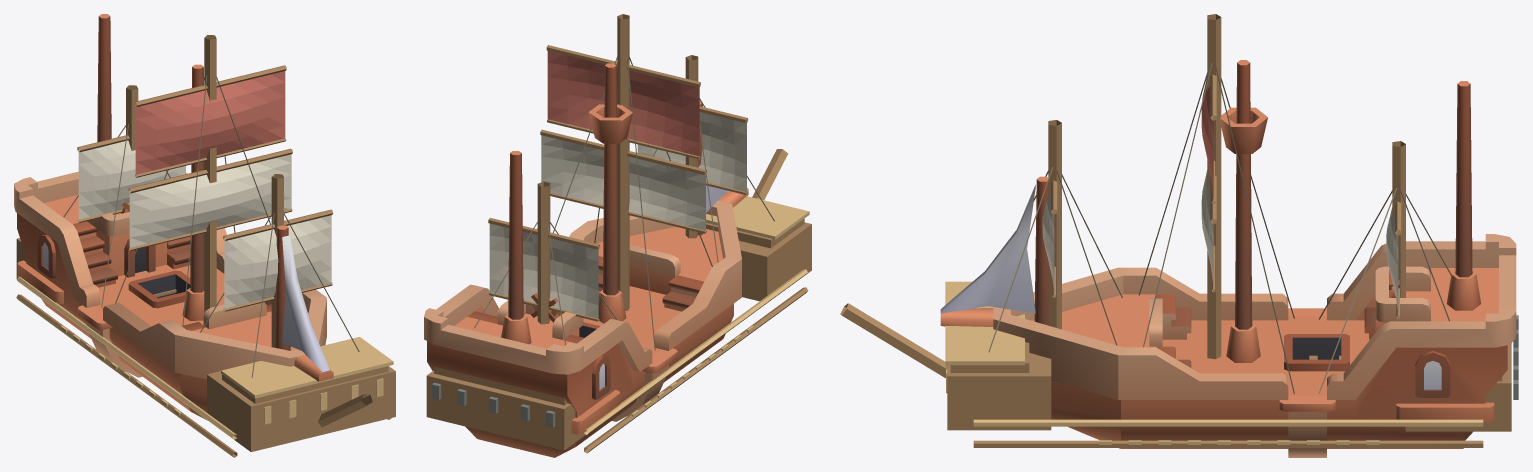
File: carrack-custom.glb
3 renders of one model, left to right at view 1: azimuth 30°, elevation 25°; view 2: azimuth 150°, elevation 25°; view 3: azimuth 270°, elevation 25°, orthographic. The views are drawn at different scales.
Parts seen in each view (by area): view 1: ship-large, carrack wood, carrack light, carrack red, carrack gold, carrack rope; view 2: ship-large, carrack wood, carrack light, carrack red, carrack gold, carrack rope, carrack dark; view 3: ship-large, carrack wood, carrack gold, carrack rope, carrack light, carrack red.
Part boxes in pixels (x1,y1,x2,y2): ship-large: [14, 14, 333, 420]; carrack wood: [16, 35, 395, 457]; carrack light: [78, 140, 331, 309]; carrack red: [135, 71, 285, 175]; carrack gold: [16, 276, 393, 439]; carrack rope: [63, 75, 359, 377]; ship-large: [424, 63, 748, 457]; carrack wood: [426, 14, 811, 453]; carrack light: [489, 112, 746, 319]; carrack red: [547, 51, 699, 157]; carrack gold: [584, 196, 809, 434]; carrack rope: [474, 55, 774, 350]; carrack dark: [432, 382, 555, 427]; ship-large: [940, 60, 1516, 457]; carrack wood: [840, 14, 1511, 447]; carrack gold: [945, 281, 1483, 444]; carrack rope: [988, 63, 1451, 393]; carrack light: [1042, 170, 1398, 314]; carrack red: [1201, 77, 1213, 199].
Size of the model in its own units: 5.33 by 10.85 by 15.98.
Materials: 7 (1 with a texture image).
